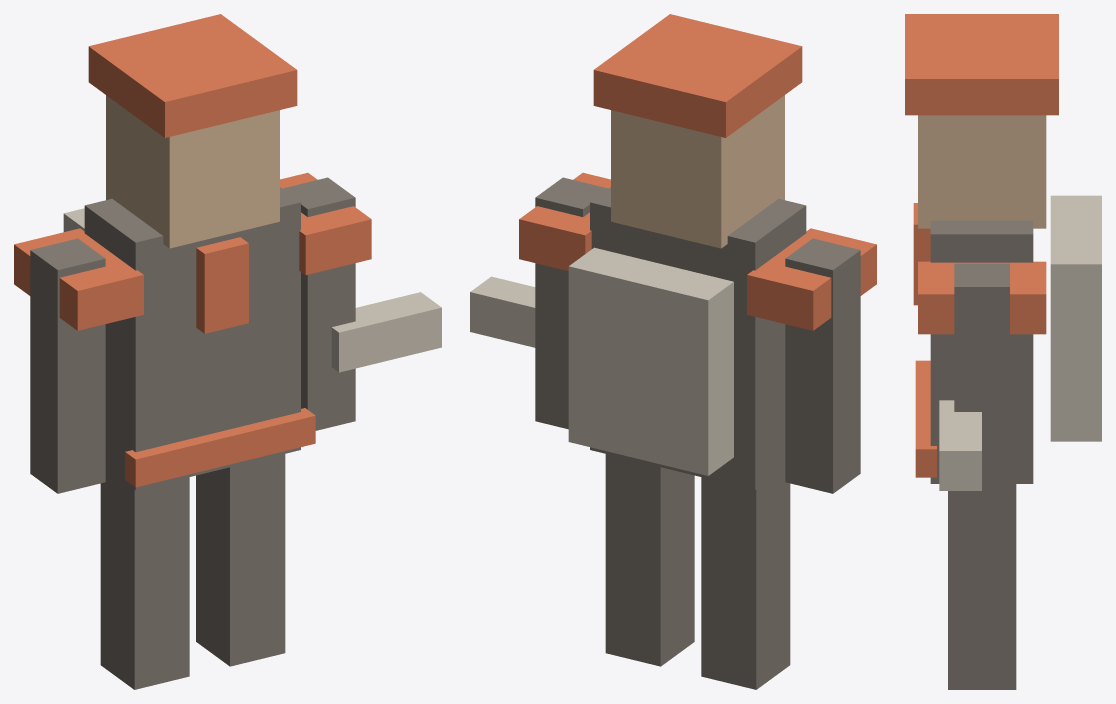
File: 14_nix_dubwater_responder_of_accent.glb
3 views of the same model, side by side, from view 1: azimuth 30°, elevation 25°; view 2: azimuth 150°, elevation 25°; view 3: azimuth 270°, elevation 25° (orthographic).
Parts seen in each view (by area): view 1: Nix Dubwater, Responder of Accent; view 2: Nix Dubwater, Responder of Accent; view 3: Nix Dubwater, Responder of Accent.
Part boxes in pixels (x1=…): Nix Dubwater, Responder of Accent: x1=14, y1=14, x2=441, y2=689; Nix Dubwater, Responder of Accent: x1=470, y1=14, x2=876, y2=689; Nix Dubwater, Responder of Accent: x1=905, y1=14, x2=1101, y2=689.
Size of the model in its own units: 1.12 by 1.7 by 0.5009.
